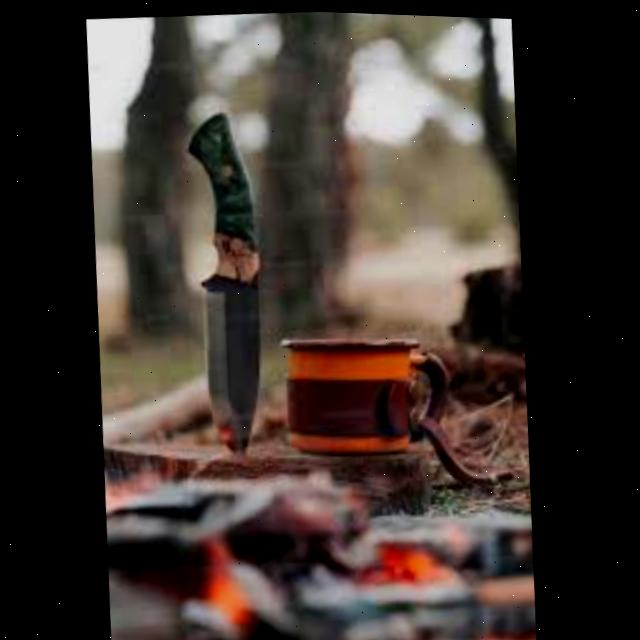Knife: (176, 104, 277, 465)
